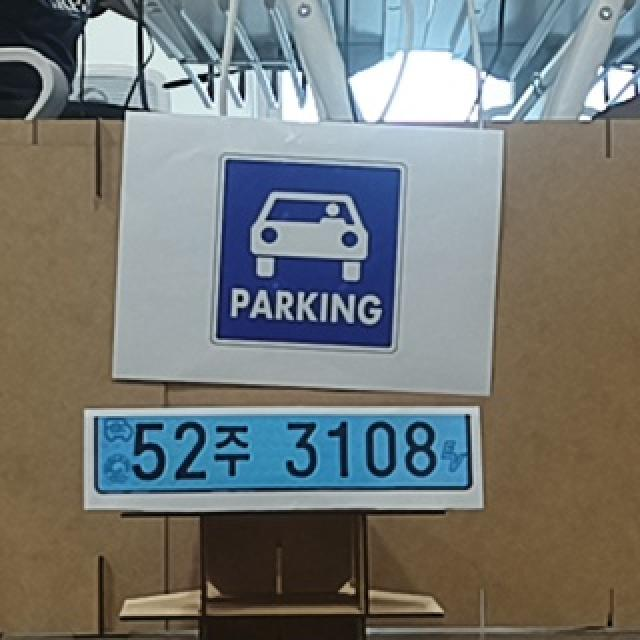electric: (94, 413, 474, 490)
